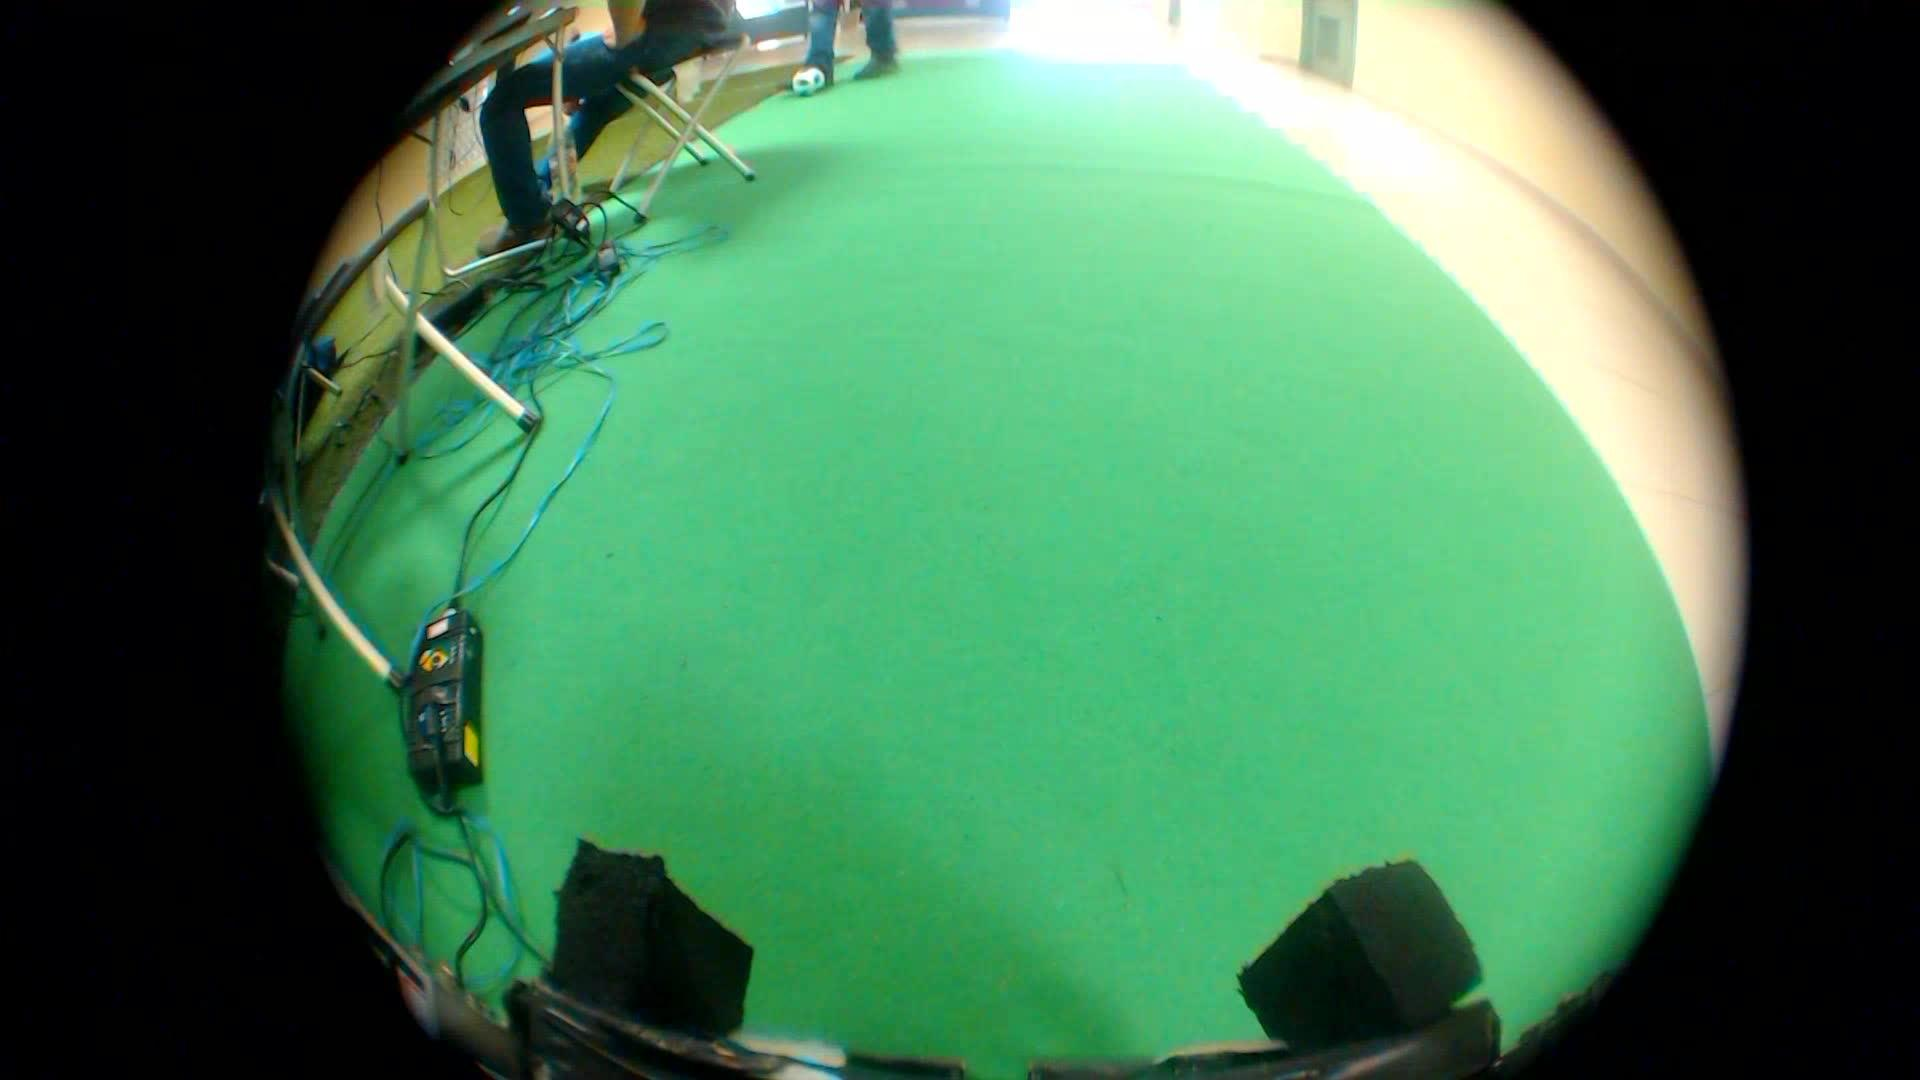ball: (786, 63, 827, 109)
